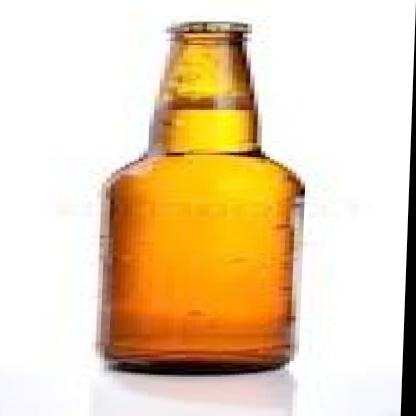trash: (101, 22, 303, 372)
